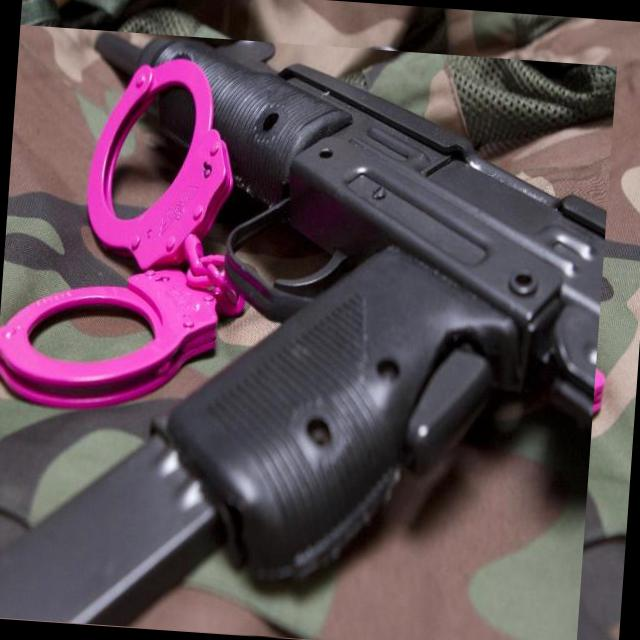Gun: (0, 35, 606, 623)
